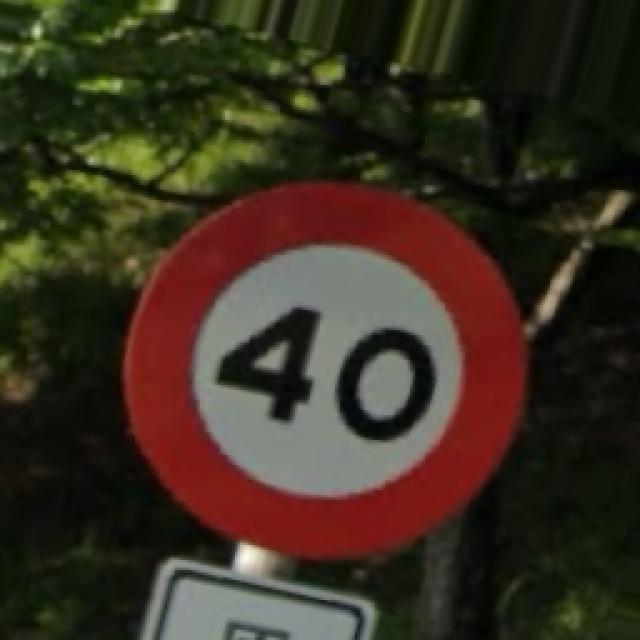Speed Limit -40-: (125, 182, 525, 555)
